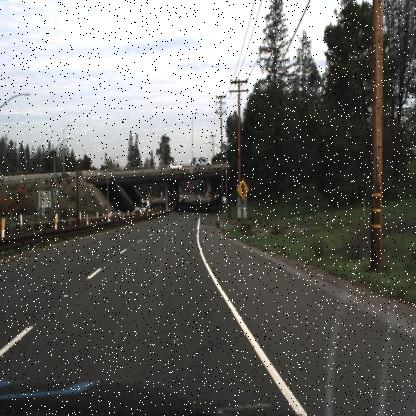car: (50, 169, 68, 183), (135, 198, 149, 214), (166, 160, 184, 172), (196, 158, 211, 168)
